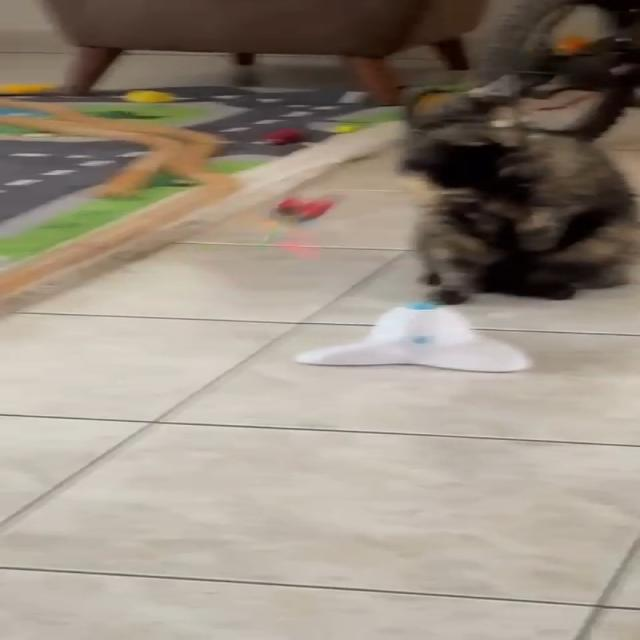authorized: (396, 84, 639, 306)
